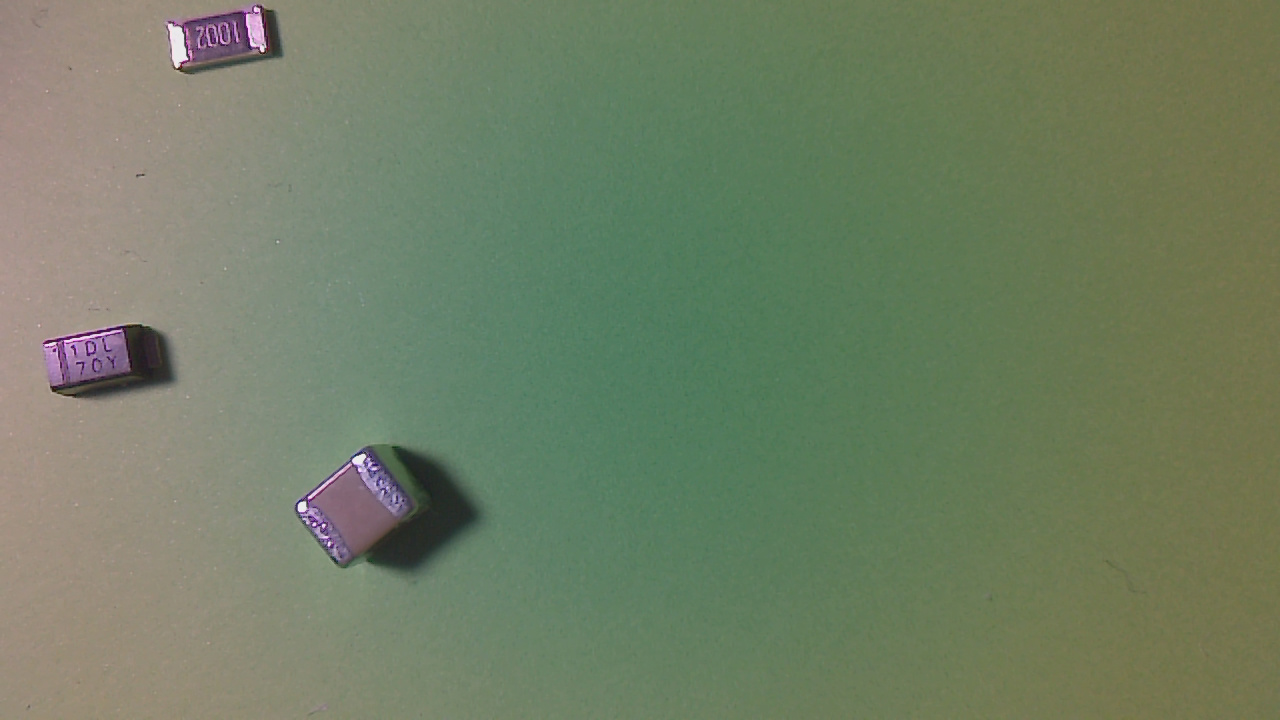Condensator: (298, 451, 421, 574)
Diode: (49, 327, 170, 404)
Resistor: (169, 11, 282, 86)
